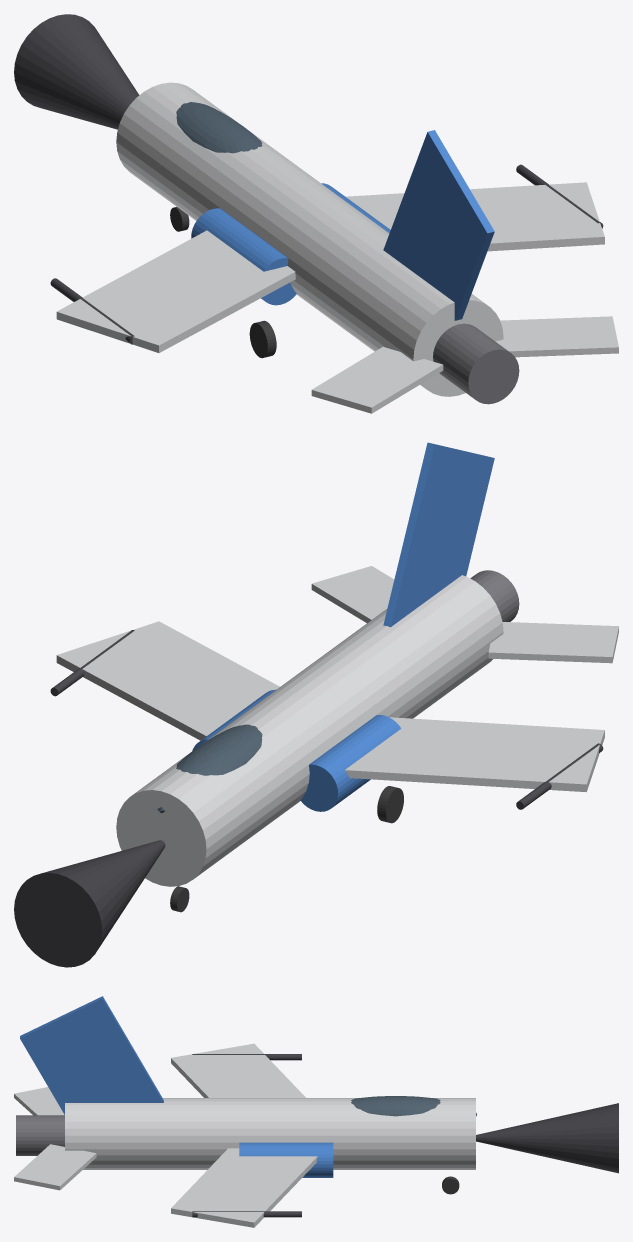
File: kai_t50_goldeneagle.glb
3 renders of one model, top to bottom at view 1: azimuth 30°, elevation 25°; view 2: azimuth 150°, elevation 25°; view 3: azimuth 270°, elevation 25°, orthographic. The views are drawn at different scales.
Parts seen in each view (by area): view 1: T50_Fuselage, Cube.003, T50_Vertical_Fin, Cone, Cube.001, Cube.002, Cylinder.004, Cube, Cylinder.003, Sphere, Cylinder.007; view 2: T50_Fuselage, Cube.003, Cube.001, T50_Vertical_Fin, Cone, Cube.002, Cylinder.003, Cube, Sphere, Cylinder.004, Cylinder.007; view 3: T50_Fuselage, T50_Vertical_Fin, Cube.001, Cone, Cube.003, Cube, Cylinder.001, Cylinder.004, Sphere, Cube.002, Cylinder.
Part boxes in pixels (x1,y1,x2,y2): T50_Fuselage: [116, 82, 503, 396]; Cube.003: [56, 230, 295, 352]; T50_Vertical_Fin: [383, 130, 494, 320]; Cone: [14, 14, 139, 129]; Cube.001: [346, 182, 604, 251]; Cube.002: [311, 347, 443, 413]; Cylinder.004: [433, 323, 519, 404]; Cube: [495, 316, 618, 357]; Cylinder.003: [191, 208, 296, 305]; Sphere: [176, 102, 262, 153]; Cylinder.007: [249, 320, 276, 358]; T50_Fuselage: [116, 575, 503, 886]; Cube.003: [345, 717, 604, 792]; Cube.001: [56, 621, 279, 740]; T50_Vertical_Fin: [383, 442, 494, 627]; Cone: [14, 840, 165, 967]; Cube.002: [488, 622, 618, 663]; Cylinder.003: [300, 715, 400, 811]; Cube: [311, 566, 394, 622]; Sphere: [157, 724, 262, 813]; Cylinder.004: [470, 570, 519, 621]; Cylinder.007: [377, 786, 403, 823]; T50_Fuselage: [65, 1098, 475, 1169]; T50_Vertical_Fin: [20, 996, 163, 1114]; Cube.001: [171, 1148, 317, 1227]; Cone: [476, 1103, 618, 1173]; Cube.003: [171, 1043, 305, 1097]; Cube: [14, 1144, 96, 1190]; Cylinder.001: [239, 1142, 333, 1177]; Cylinder.004: [16, 1115, 64, 1155]; Sphere: [351, 1096, 476, 1116]; Cube.002: [14, 1087, 64, 1115]; Cylinder: [192, 1211, 301, 1217].
Bounding box in the file's own units: 10.82 × 5.57 × 15.45.
